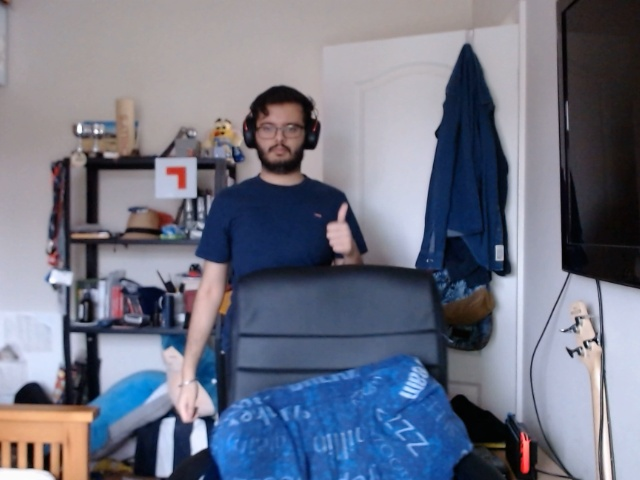Thumbs up: (323, 198, 359, 259)
